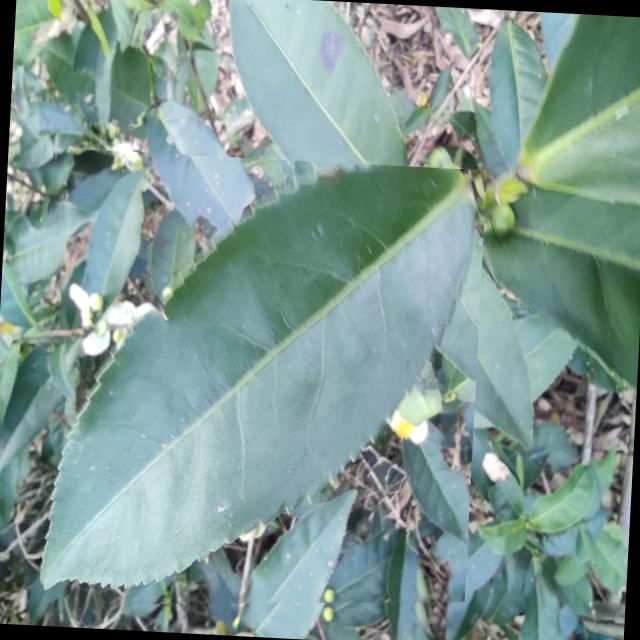Category D(7+ days, Not for Tea): (29, 147, 487, 627)
